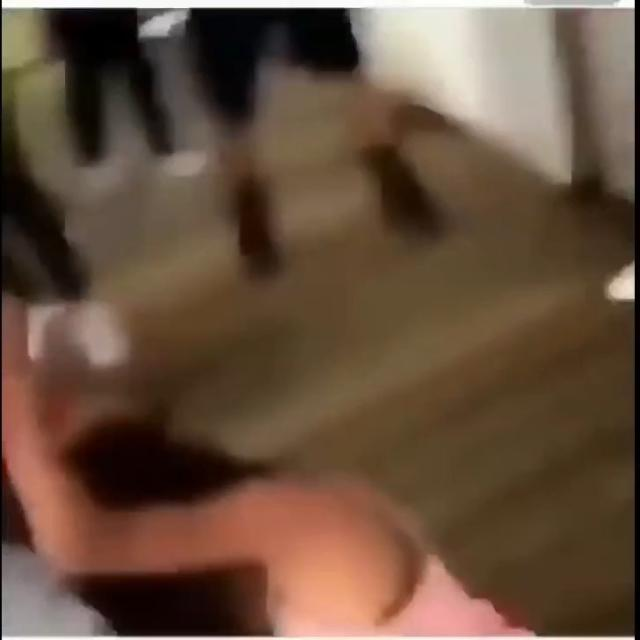fight: (0, 247, 503, 639)
